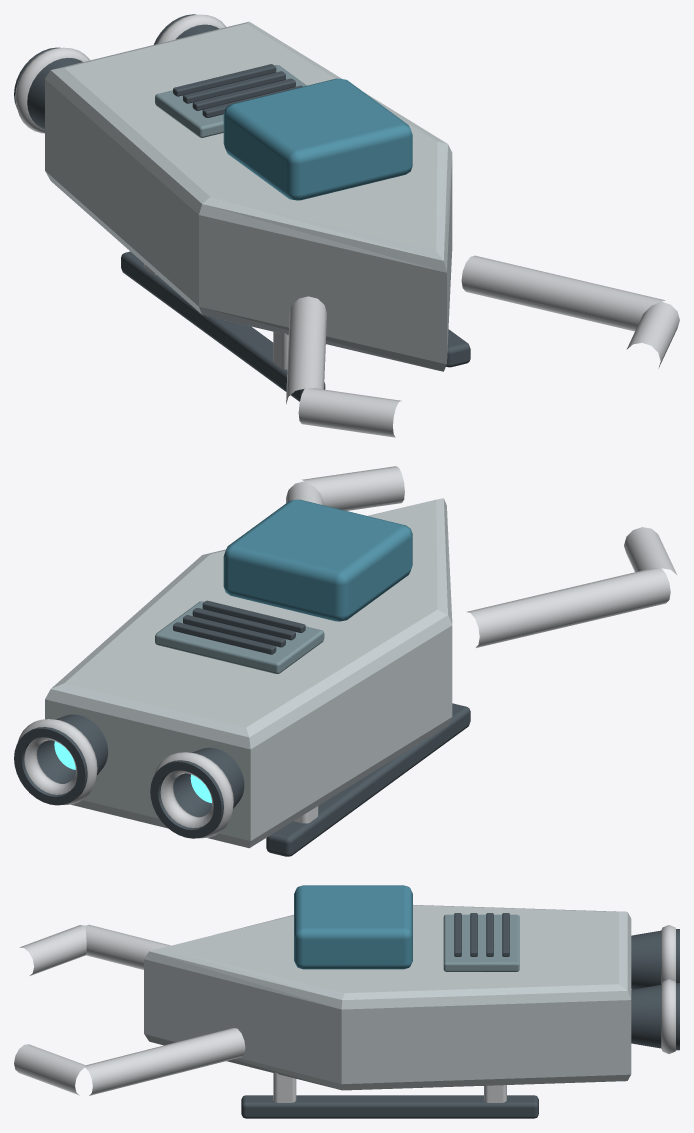
The picture shows the model from 3 angles, top to bottom: view 1: azimuth 30°, elevation 25°; view 2: azimuth 150°, elevation 25°; view 3: azimuth 270°, elevation 25°; orthographic projection. The views are drawn at different scales.
Visible parts, largest first — view 1: orbital-tug; view 2: orbital-tug; view 3: orbital-tug.
Part boxes in pixels (x1,y1,x2,y2): orbital-tug: (14, 14, 679, 437); orbital-tug: (14, 466, 676, 856); orbital-tug: (14, 885, 679, 1118).
Bounding box in the file's own units: 2.37 × 1.3 × 4.37.
